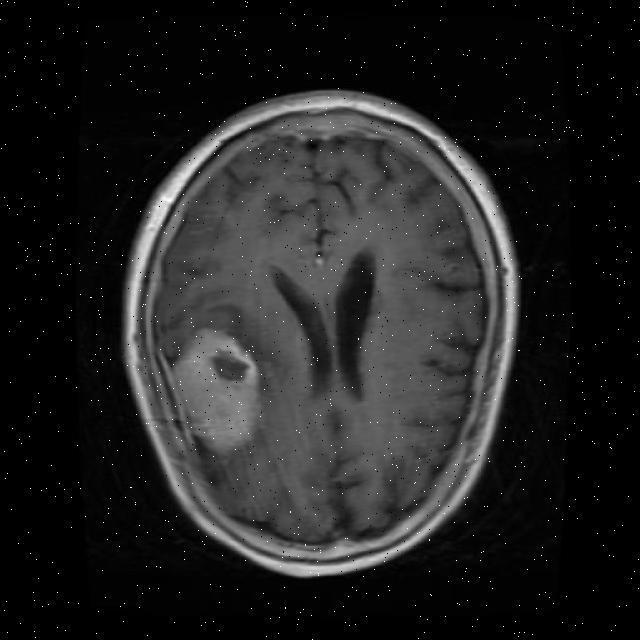Meningioma: (170, 329, 258, 452)
